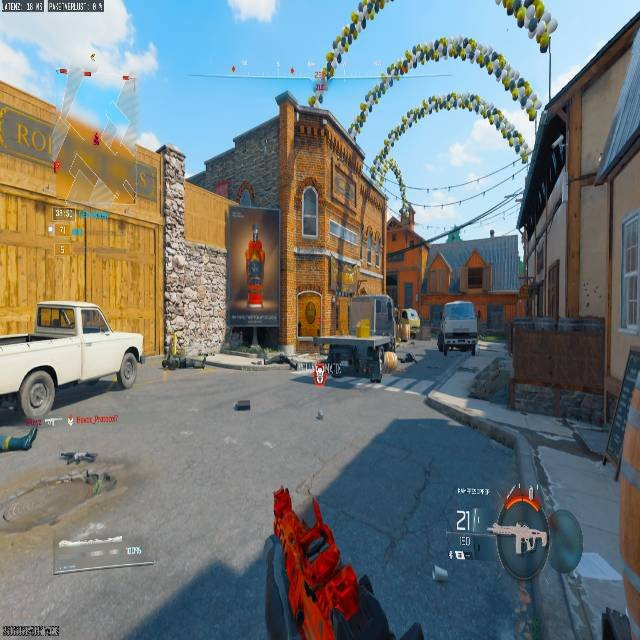player: (491, 0, 560, 54)
